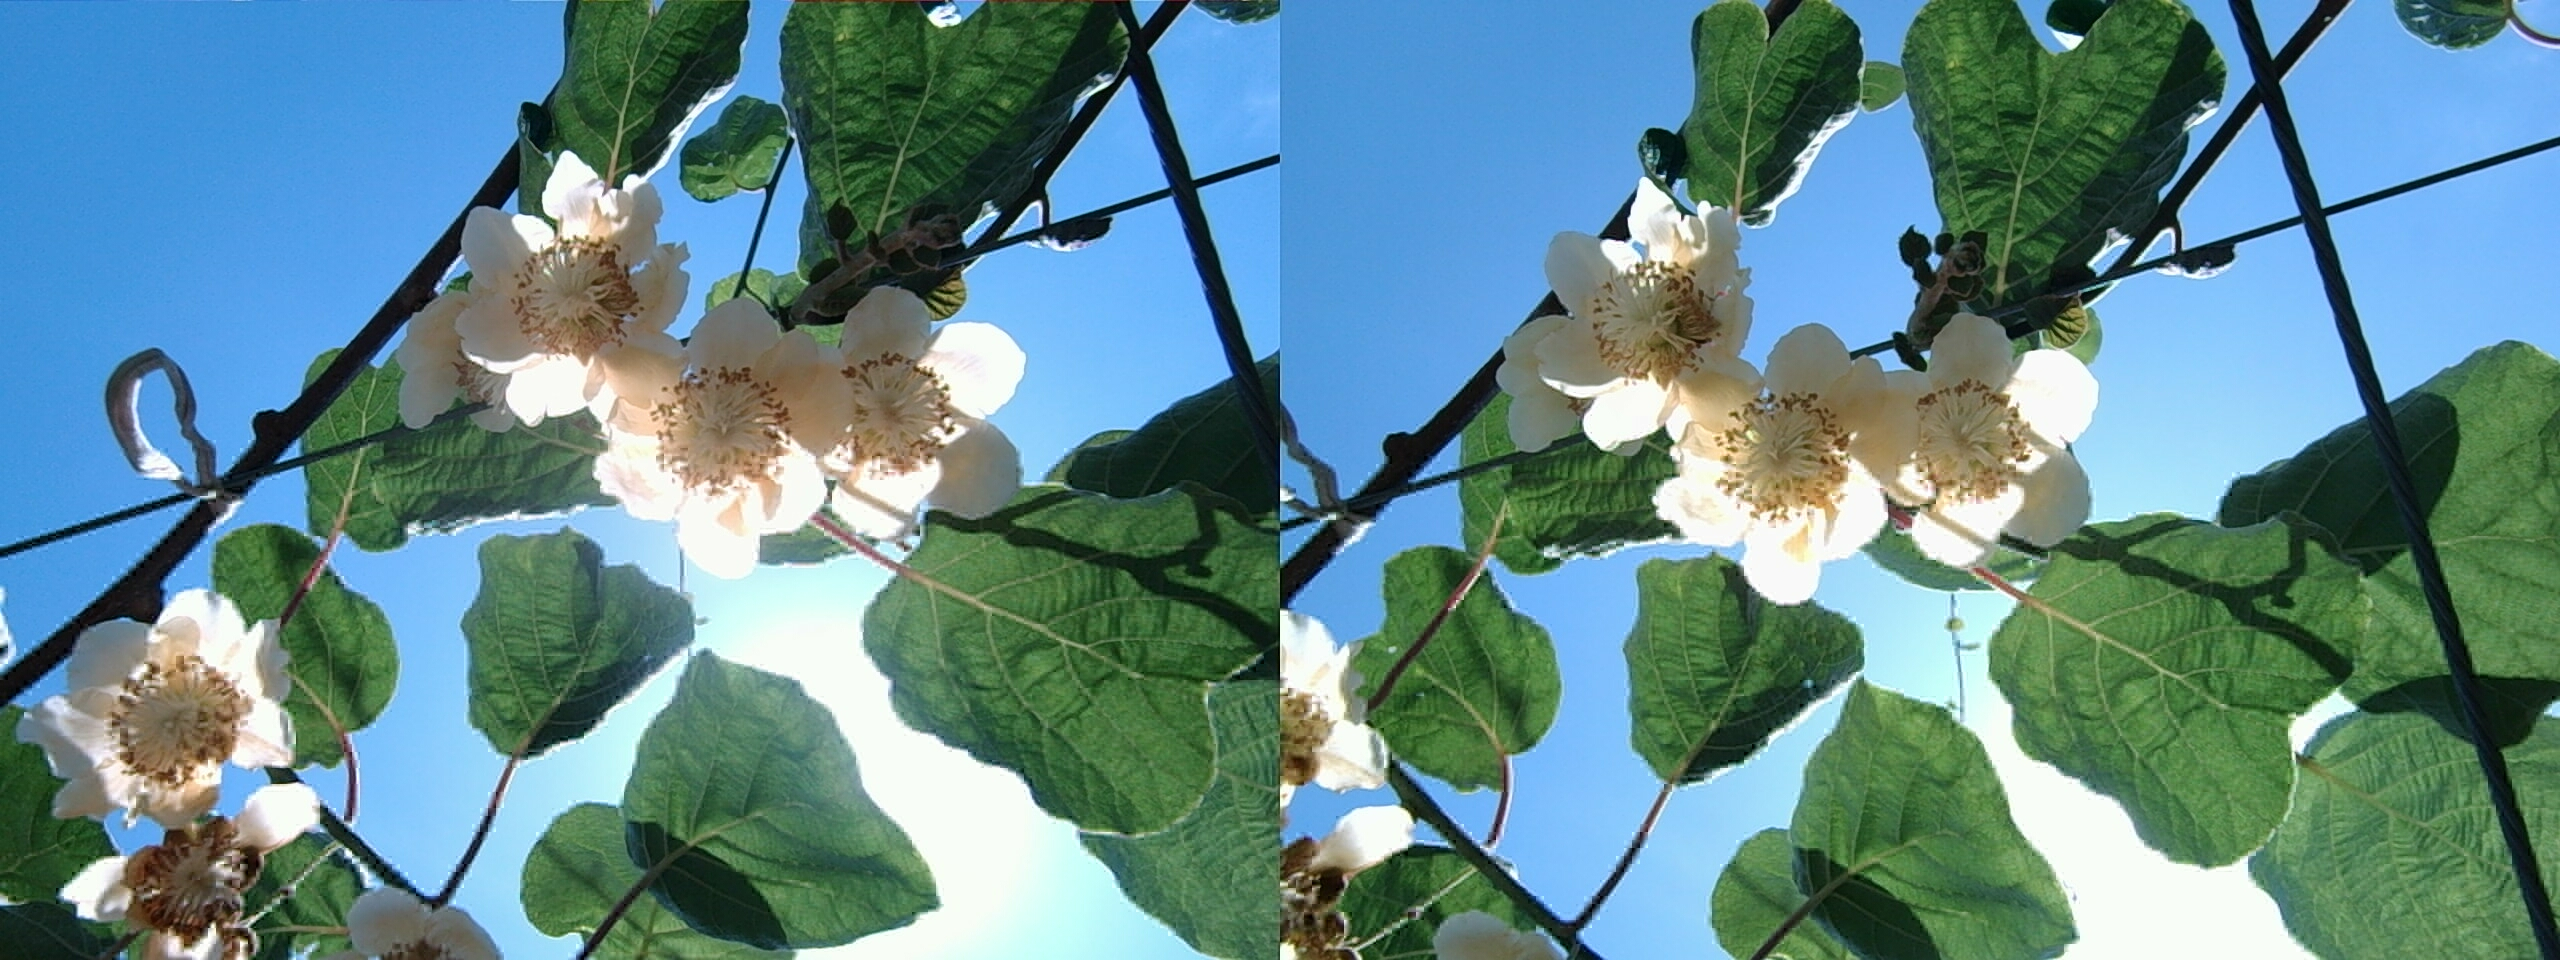flower: (7, 588, 305, 826), (1652, 327, 1917, 581), (578, 323, 847, 550), (446, 157, 678, 420), (1505, 189, 1760, 426), (1868, 312, 2119, 549), (792, 274, 1016, 524)
